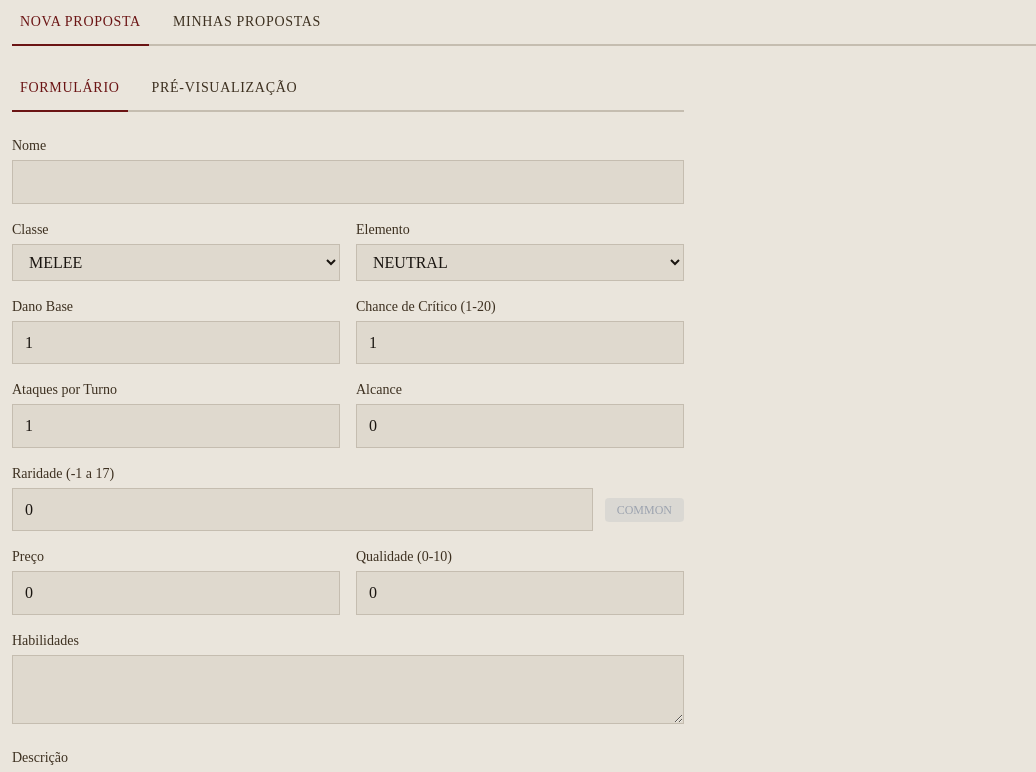
it: UserContributeView › shows an empty state when there are no submissions
Click the button "Minhas Propostas". click: (247, 29)
box: [165, 12, 329, 46]
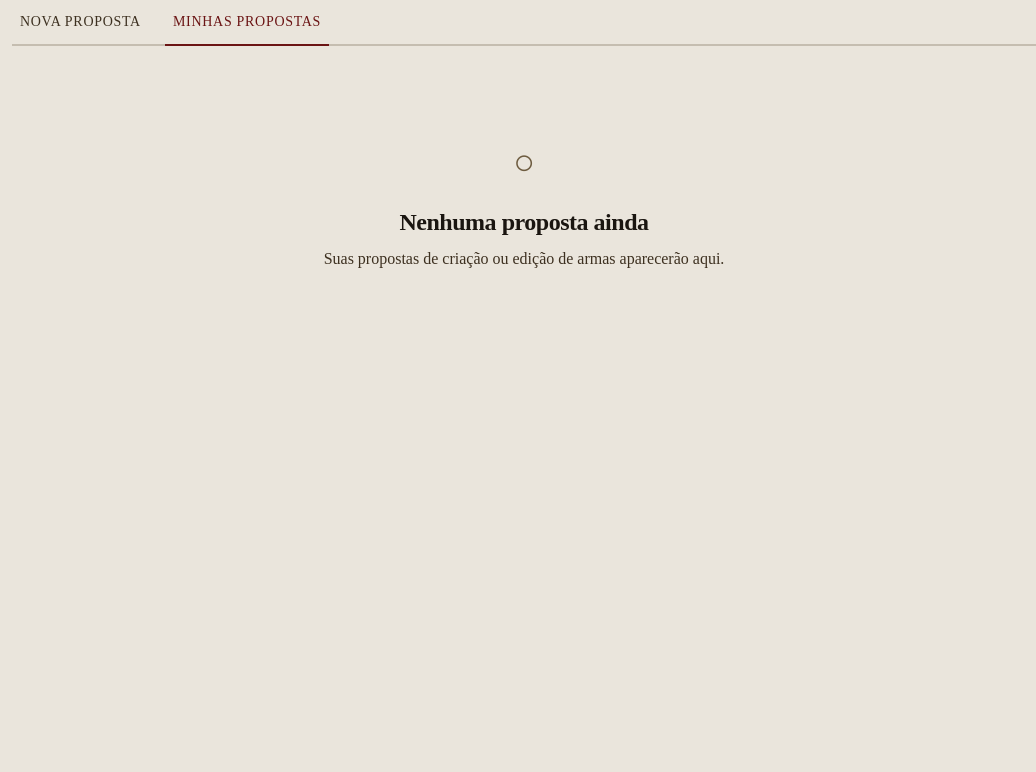
Now the heading "Nenhuma proposta ainda" is shown, box [400, 209, 649, 235]
